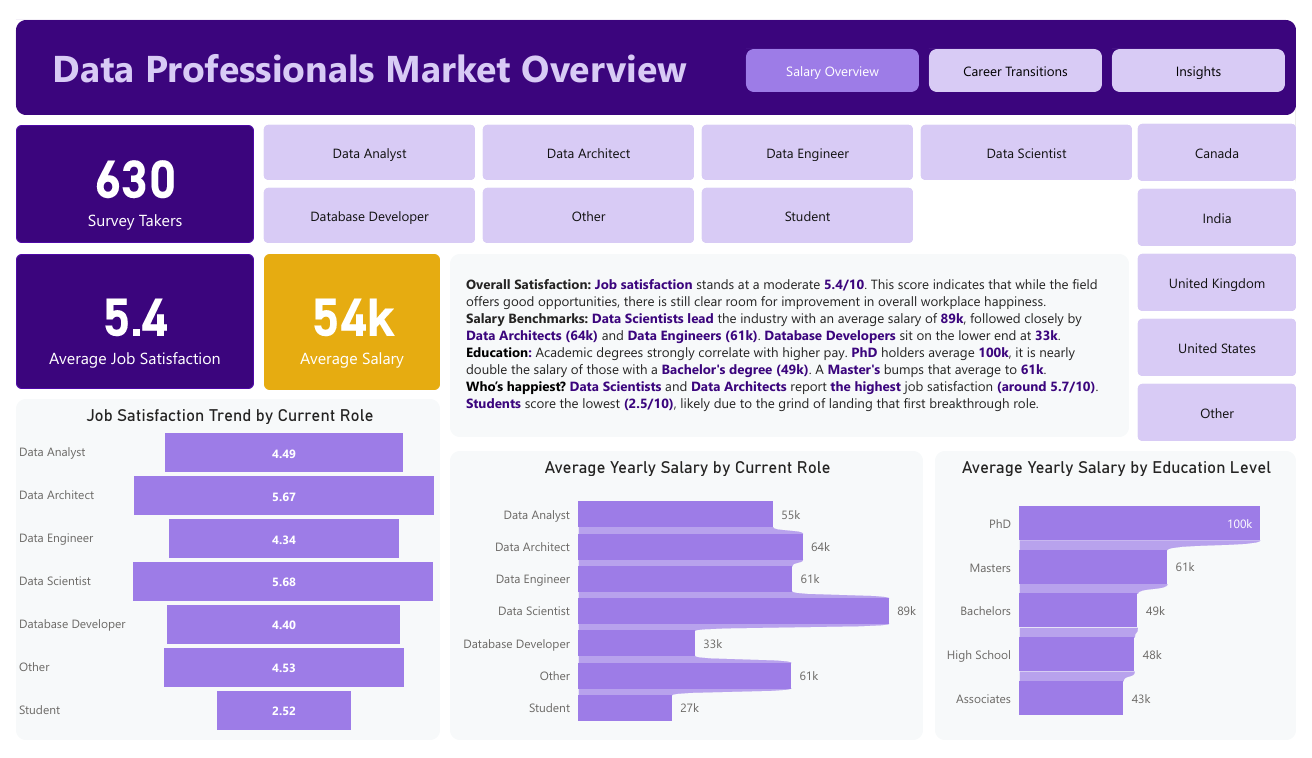

What the dashboard file says about the page in this screenshot:
{"tool":"powerbi","page":{"name":"Salary Overview","canvas":[1280,720],"ordinal":0},"visuals":[{"type":"shape","box":[0,0,1279.7,94.6],"z":0},{"type":"card","fields":{"Values":["Count(data_professionals_survey.Unique ID)"]},"box":[0,105,238,118],"z":1000},{"type":"barChart","title":"Average Yearly Salary by Current Role","fields":{"Category":["data_professionals_survey.Current_Role"],"Y":["Avg(data_professionals_survey.Average_yearly_Salary)"]},"box":[434,431,473,289],"z":2000},{"type":"barChart","title":"Average Yearly Salary by Education Level","fields":{"Y":["Avg(data_professionals_survey.Average_yearly_Salary)"],"Category":["data_professionals_survey.Education_Level"]},"box":[919,431,361,289],"z":3000},{"type":"advancedSlicerVisual","fields":{"Values":["data_professionals_survey.Country"]},"box":[1112,104,168,320],"z":4000},{"type":"card","fields":{"Values":["Avg(data_professionals_survey.Average_yearly_Salary)"]},"box":[248,234,176,136],"z":5000},{"type":"funnel","title":"Job Satisfaction Trend by Current Role","fields":{"Category":["data_professionals_survey.Current_Role"],"Y":["Avg(data_professionals_survey.Salary_Satisfaction)"]},"box":[0,379,424,341],"z":6000},{"type":"textbox","box":[31,17,699,60],"z":7000},{"type":"textbox","box":[434,234,679,183],"z":8000},{"type":"advancedSlicerVisual","fields":{"Values":["data_professionals_survey.Current_Role"]},"box":[237.9,104.6,891.3,117.9],"z":9000},{"type":"pageNavigator","box":[730.3,28.7,538.5,43.1],"z":10000},{"type":"card","fields":{"Values":["data_professionals_survey.Overall_Satisfaction_Score"]},"box":[0,234,238,135],"z":11000}]}

Visuals, with their boxes in screenshot pixels (x1, y1, x2, y2), scaled from the page's 1280x720 canvas onto the 1312x758 screenshot:
shape: crop(0, 0, 1311, 100)
card - Count(data_professionals_survey.Unique ID): crop(0, 111, 244, 235)
"Average Yearly Salary by Current Role" barChart: crop(445, 454, 930, 757)
"Average Yearly Salary by Education Level" barChart: crop(942, 454, 1311, 757)
advancedSlicerVisual - data_professionals_survey.Country: crop(1140, 109, 1311, 446)
card - Avg(data_professionals_survey.Average_yearly_Salary): crop(254, 246, 435, 390)
"Job Satisfaction Trend by Current Role" funnel: crop(0, 399, 435, 757)
textbox: crop(32, 18, 748, 81)
textbox: crop(445, 246, 1141, 439)
advancedSlicerVisual - data_professionals_survey.Current_Role: crop(244, 110, 1157, 234)
pageNavigator: crop(749, 30, 1301, 76)
card - data_professionals_survey.Overall_Satisfaction_Score: crop(0, 246, 244, 388)
